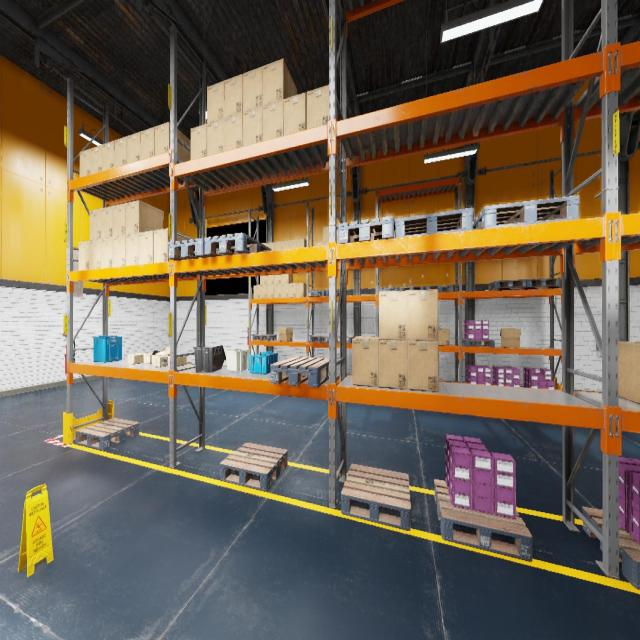box: (306, 85, 338, 143), (263, 58, 296, 106), (407, 289, 438, 340), (408, 340, 438, 392), (155, 121, 190, 162), (379, 340, 407, 390), (379, 290, 407, 340), (618, 342, 640, 404), (352, 337, 379, 387), (153, 228, 190, 263), (126, 200, 163, 235), (284, 92, 306, 135), (243, 66, 262, 112), (224, 73, 243, 118), (263, 100, 283, 140), (243, 106, 262, 146), (224, 112, 243, 150), (207, 81, 224, 123), (190, 123, 207, 160), (207, 119, 224, 155), (139, 230, 153, 264), (140, 127, 154, 159), (500, 328, 521, 348), (125, 233, 138, 265), (113, 235, 126, 267), (113, 204, 126, 236), (127, 132, 140, 163), (114, 136, 127, 167), (101, 206, 113, 238), (101, 237, 113, 268), (102, 140, 114, 170), (90, 144, 102, 174), (90, 208, 100, 240), (90, 239, 100, 269), (79, 241, 89, 270), (152, 347, 169, 364), (80, 149, 90, 177), (278, 327, 293, 341), (153, 354, 169, 367), (128, 353, 146, 364), (438, 328, 449, 346), (168, 356, 186, 366), (296, 283, 306, 297), (288, 283, 296, 297), (281, 274, 293, 283), (323, 226, 329, 242), (281, 284, 288, 297), (274, 284, 281, 297), (267, 285, 274, 298), (260, 285, 267, 298), (253, 285, 260, 298), (297, 238, 306, 248), (144, 353, 152, 363), (349, 224, 356, 235), (274, 274, 281, 284), (267, 275, 274, 284), (260, 276, 267, 284), (289, 240, 296, 248), (282, 240, 288, 249), (275, 241, 281, 250), (268, 242, 274, 250), (315, 242, 323, 246), (336, 225, 338, 240), (262, 242, 267, 246), (323, 242, 329, 245), (336, 240, 338, 243)
pallets: (434, 479, 532, 562), (582, 506, 640, 589), (341, 464, 411, 530), (473, 195, 579, 229), (220, 443, 287, 491), (396, 208, 474, 238), (76, 418, 139, 450), (270, 356, 329, 387), (204, 233, 272, 256), (338, 216, 395, 243), (168, 238, 220, 260), (519, 278, 560, 289), (488, 280, 526, 290), (462, 339, 494, 347), (425, 285, 453, 292), (253, 334, 276, 341), (325, 289, 347, 296), (336, 336, 354, 343), (309, 336, 329, 342), (308, 290, 325, 296), (399, 286, 424, 290), (379, 287, 399, 291)
